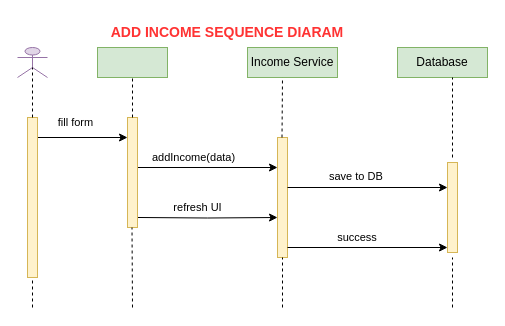
The diagram is 505 pixels wide and 326 high, and some of its shapes have lost their labels. Each missing label, with the centre of its shape:
"Income UI" belongs at (132,62).
"User" belongs at (32,62).
